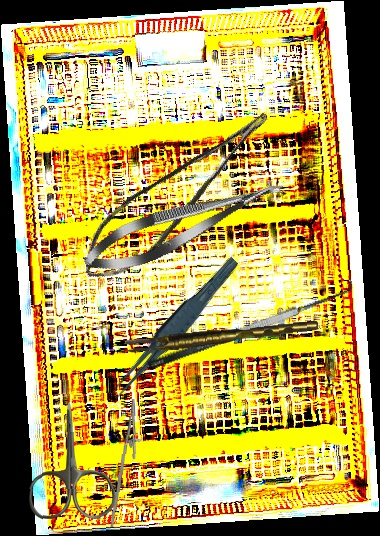Iris Scissors: (25, 401, 117, 520)
Micro Scissor: (65, 106, 294, 292), (77, 166, 291, 284)
Needle Holder: (109, 398, 146, 529)
Spatula Surgical: (141, 272, 358, 371)
Tissue Forceps: (99, 255, 249, 402), (124, 320, 319, 354)
